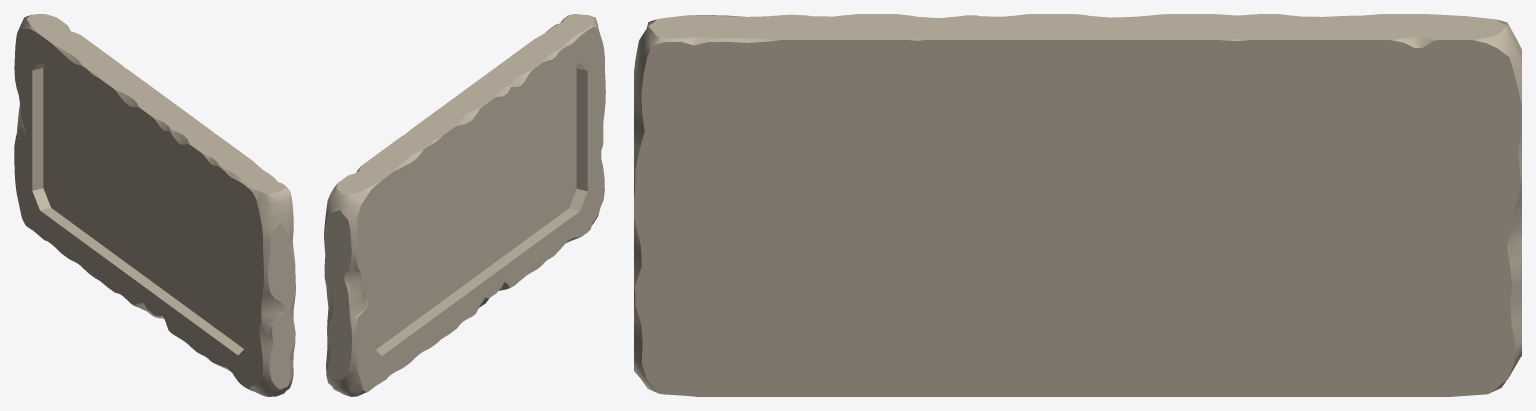
The model's file is Name_field_Waves.fbx.
3 views of the same model, side by side, from view 1: azimuth 30°, elevation 25°; view 2: azimuth 150°, elevation 25°; view 3: azimuth 270°, elevation 25° (orthographic). The views are drawn at different scales.
Parts seen in each view (by area): view 1: Name_Slot_1.010_dmg; view 2: Name_Slot_1.010_dmg; view 3: Name_Slot_1.010_dmg.
Part boxes in pixels (box(x1,y1,x2,y2)): Name_Slot_1.010_dmg: box(14, 14, 295, 396); Name_Slot_1.010_dmg: box(324, 14, 605, 396); Name_Slot_1.010_dmg: box(634, 14, 1521, 396).
Size of the model in its own units: 7.92 by 50.5 by 114.
